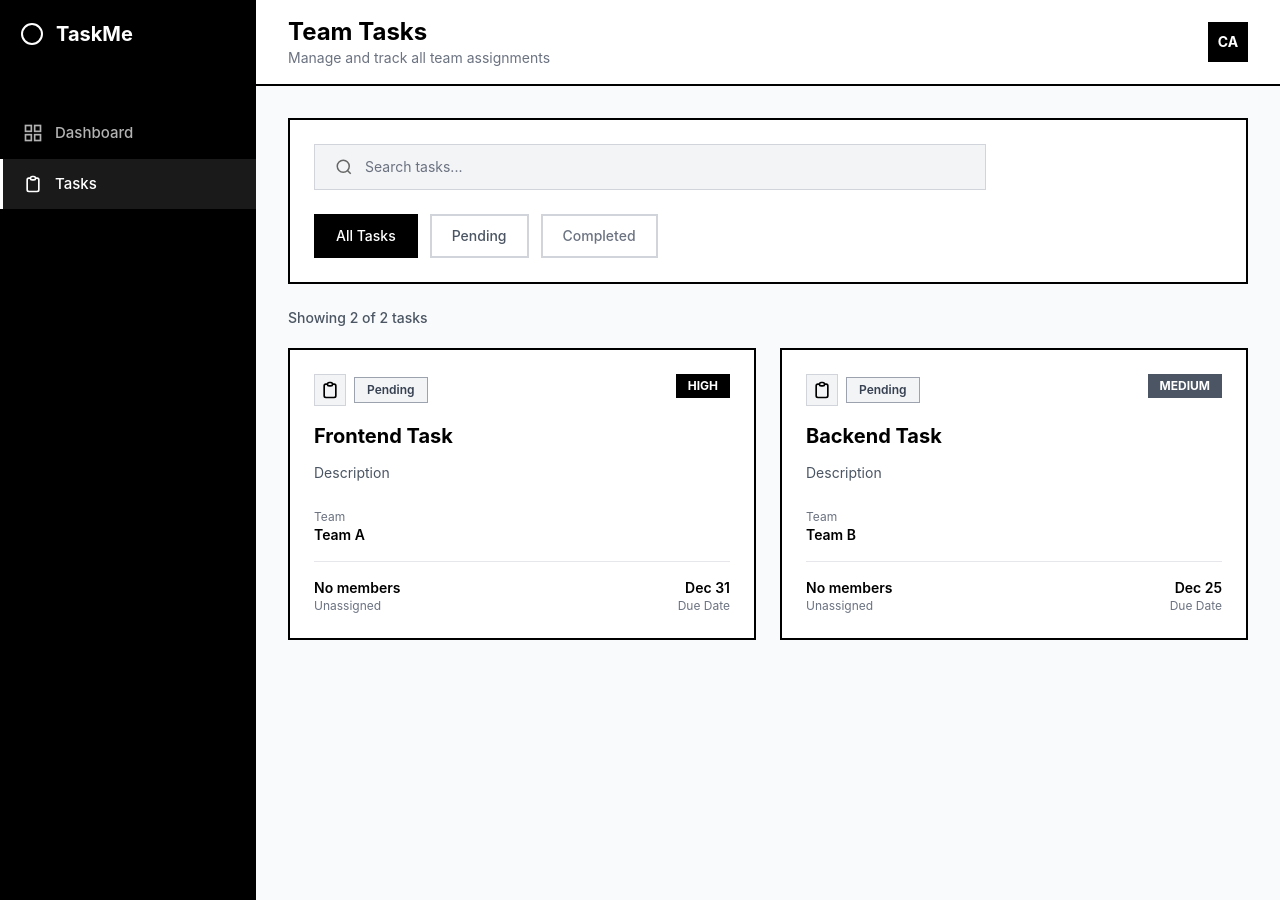
Tasks Component › filters tasks by search query
Expected: the heading "Frontend Task" is shown, [314,424,453,448]
Type "Frontend" into the field with placeholder "Search tasks..." at {"x": 665, "y": 167}, box [365,157,965,177]
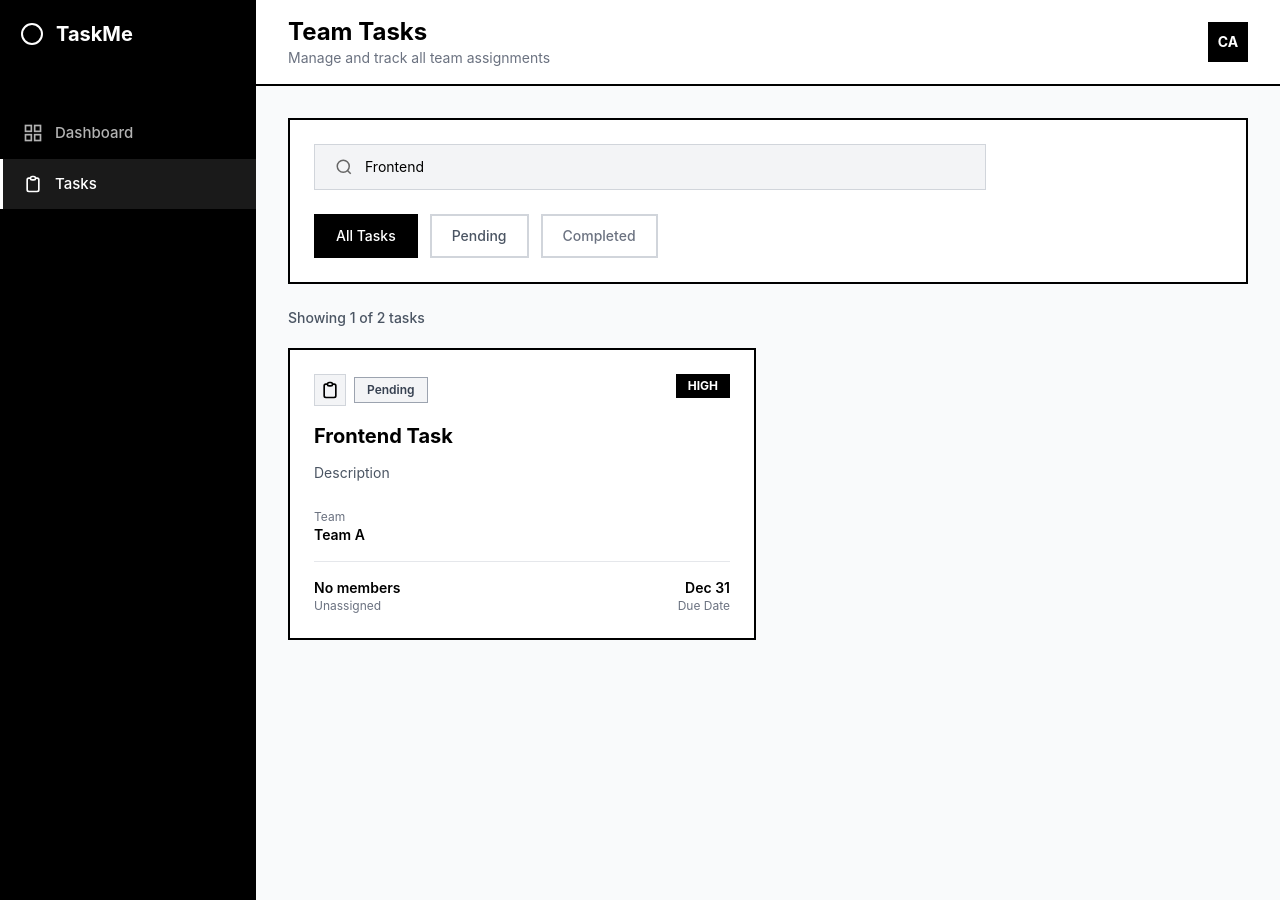
Expected: the heading "Frontend Task" is shown, [314,424,453,448]
Expected: the link "Backend Task" is gone
